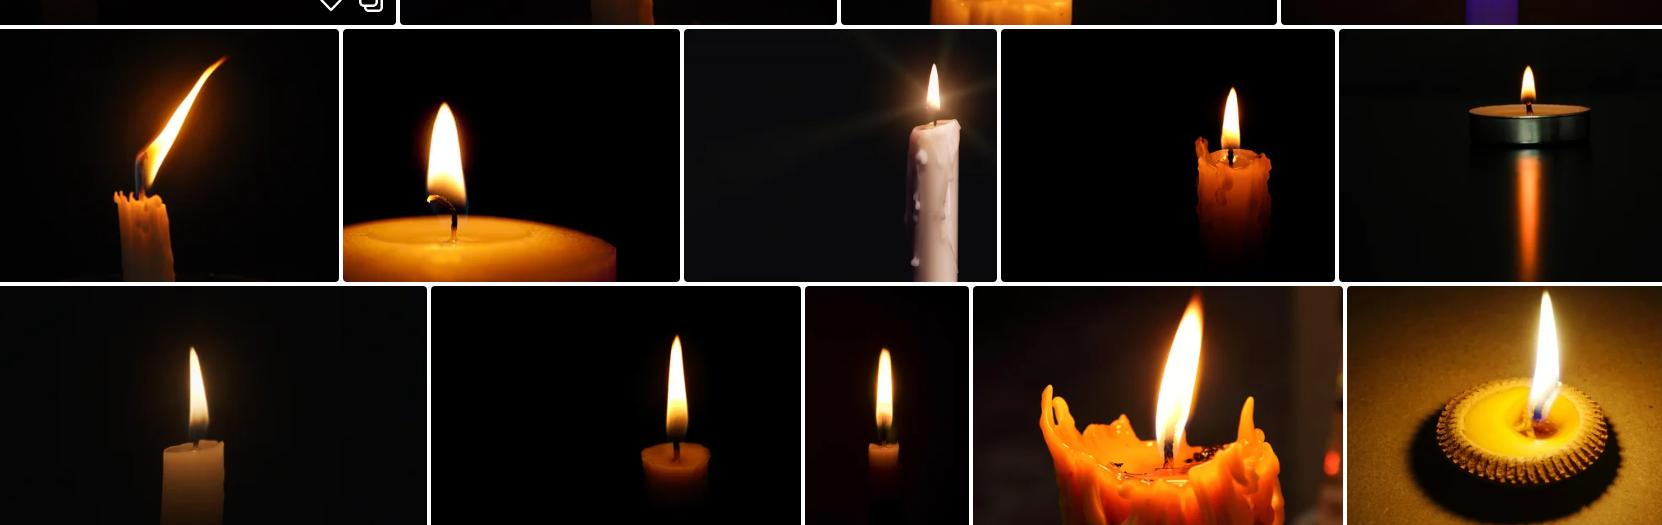fire: (138, 60, 226, 183), (1155, 297, 1204, 453), (428, 101, 466, 206), (1532, 290, 1561, 421), (667, 335, 689, 441), (189, 346, 209, 440), (876, 349, 892, 433), (1222, 85, 1240, 147), (925, 63, 944, 111), (1520, 64, 1535, 104)
